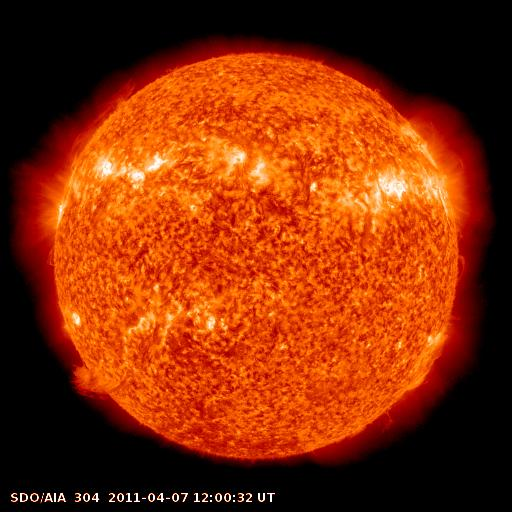prominence: (62, 68, 156, 173), (401, 310, 462, 398), (59, 355, 120, 409), (446, 246, 477, 285)
